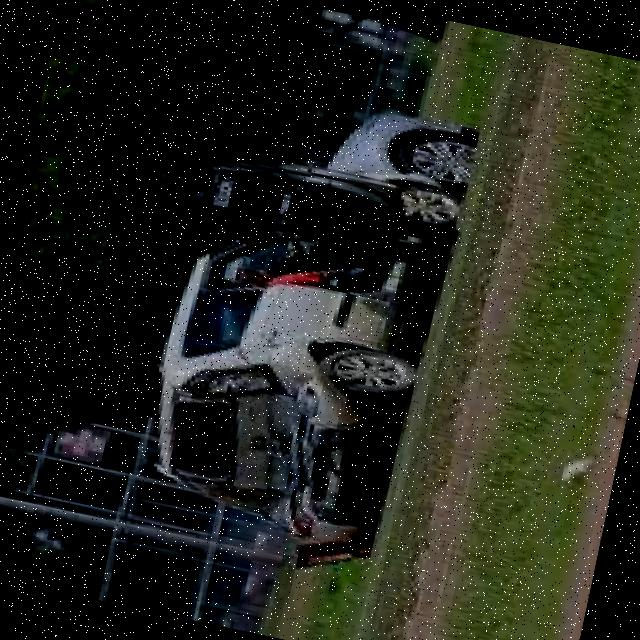Severe Damage: (94, 286, 460, 592)
